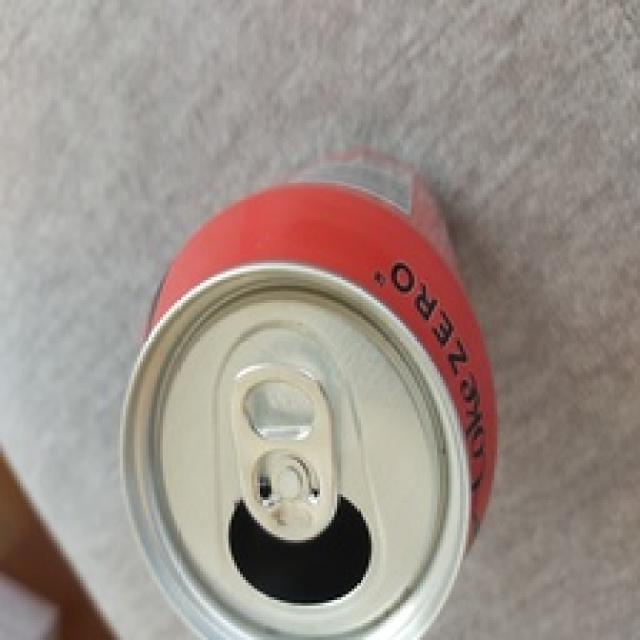recyclable: (124, 148, 498, 640)
